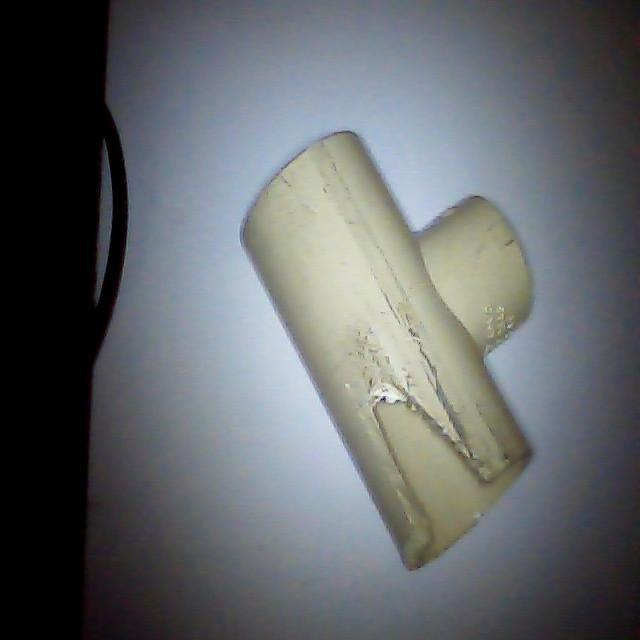Defective: (372, 403, 514, 548), (371, 391, 482, 538)
T Joint: (239, 131, 535, 574)
